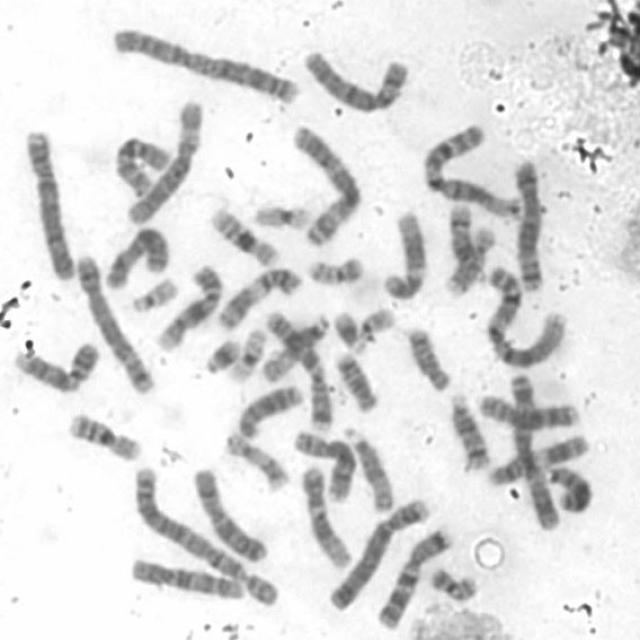A1: (418, 117, 525, 222), (479, 258, 570, 369)
A2: (127, 459, 283, 608), (105, 20, 304, 105)
A3: (286, 117, 365, 249), (505, 367, 563, 533)
B4: (324, 490, 432, 613), (19, 122, 79, 282)
B5: (71, 246, 159, 395), (507, 152, 548, 293)
C10: (124, 551, 249, 602), (110, 128, 174, 198)
C11: (212, 259, 304, 333), (484, 428, 592, 488)
C12: (295, 459, 353, 568), (376, 203, 429, 301)
C6: (121, 90, 206, 226), (298, 42, 414, 115)
C7: (261, 304, 338, 432), (371, 520, 456, 630)
C8: (287, 423, 358, 504), (472, 387, 582, 430)
C9: (152, 258, 225, 353), (7, 334, 102, 395)
D13: (233, 377, 306, 441), (540, 458, 595, 515)
D14: (445, 387, 494, 472), (445, 198, 489, 288)
D15: (258, 307, 334, 385), (339, 418, 398, 514)
E16: (203, 200, 282, 268), (62, 406, 145, 463)
E17: (220, 426, 293, 492), (441, 219, 498, 297)
E18: (400, 320, 454, 394), (328, 344, 381, 414)
F19: (222, 321, 268, 386), (248, 196, 314, 232)
F20: (424, 560, 481, 604), (301, 250, 367, 287)
G21: (328, 304, 369, 355), (200, 331, 243, 375)
G22: (125, 271, 180, 314), (354, 302, 396, 342)
X: (187, 461, 269, 564), (102, 219, 174, 292)
